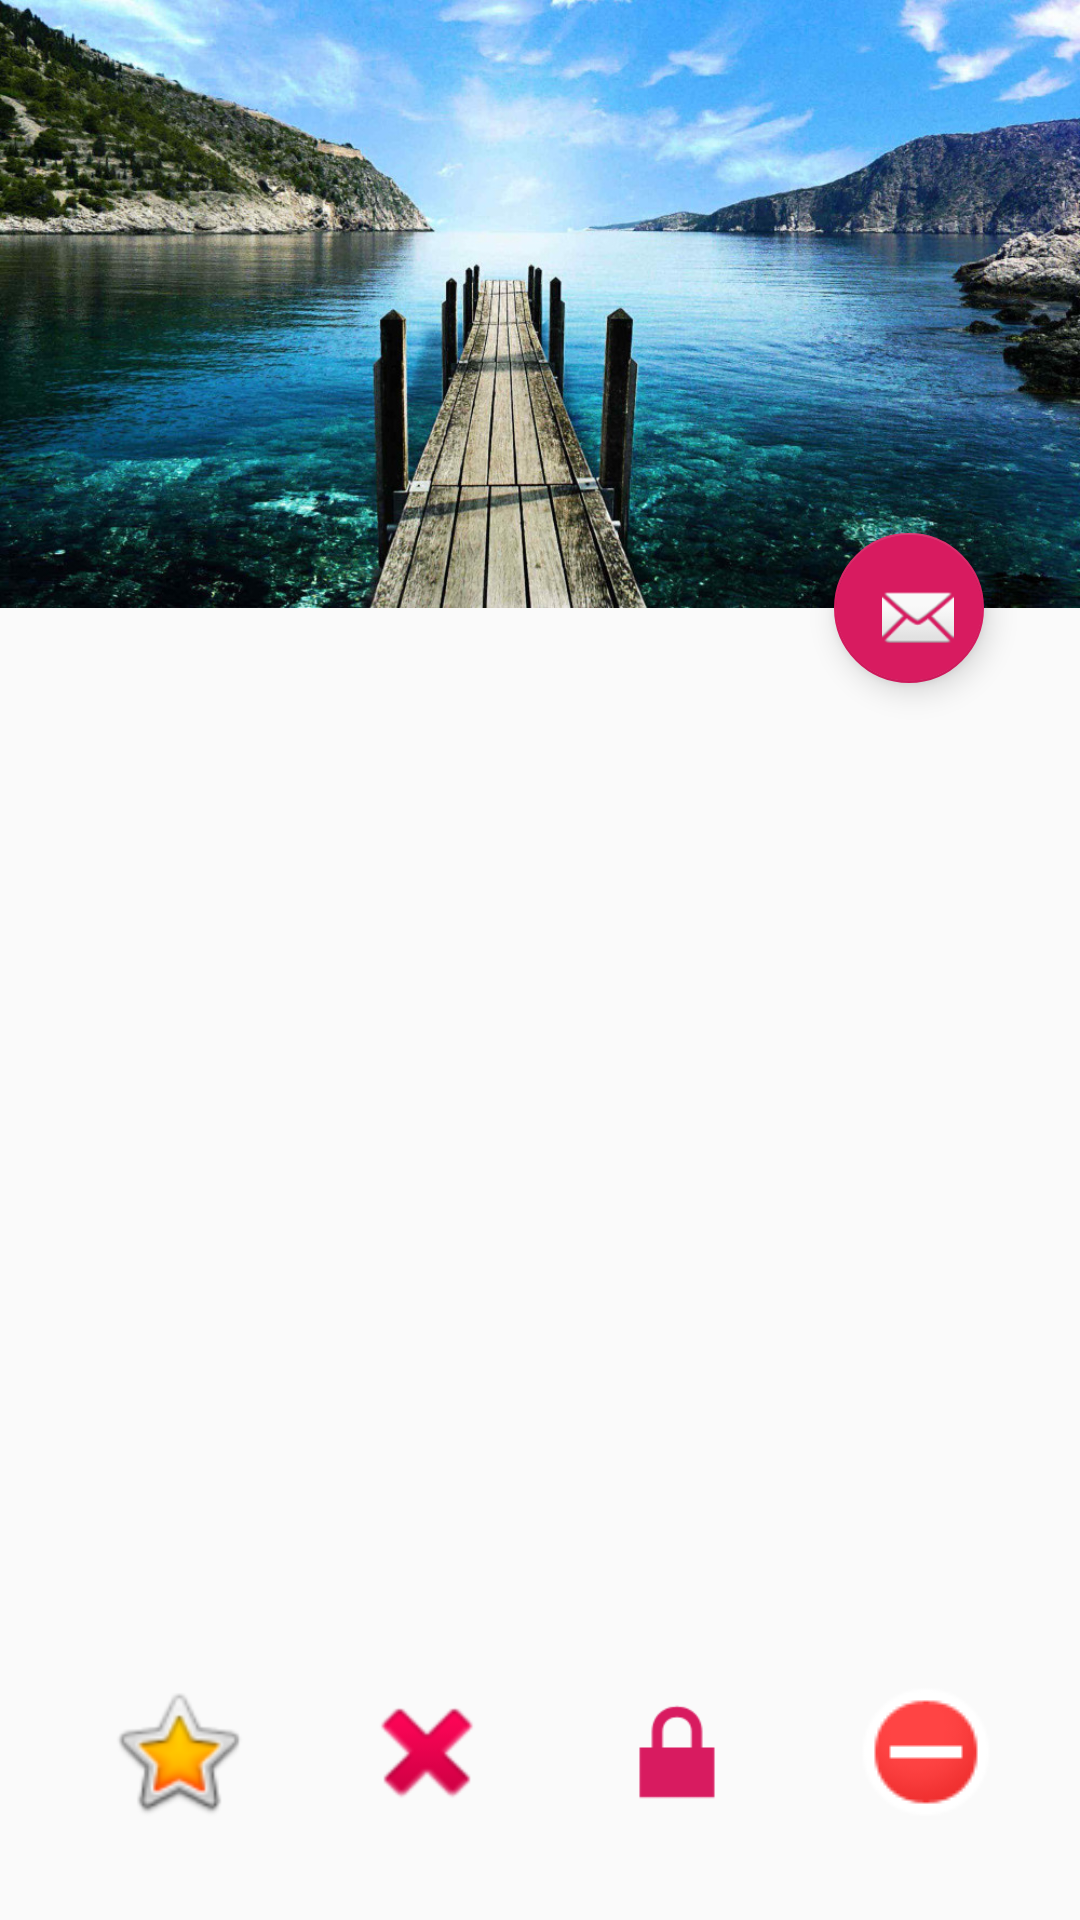

Where to tap for icons on this 1080px x 1920px app screen, as point (x, y):
delete: point (427, 1752)
email: point (909, 608)
lock: point (677, 1752)
presence busy: point (926, 1752)
star on: point (179, 1753)
